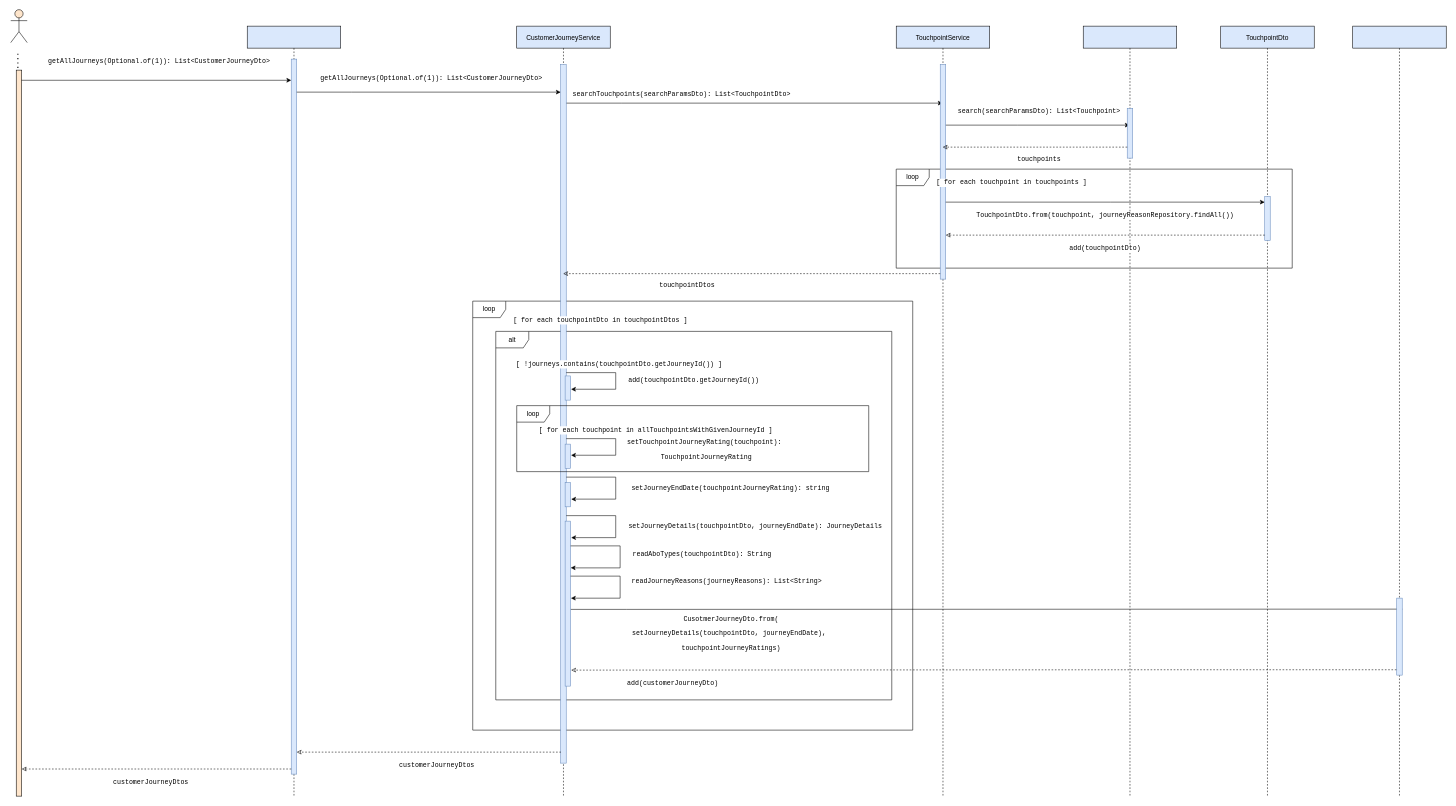
This 1456x806 diagram has some shape labels left out. Here are the shapes that lost their labels. From the top down, the box of each, then its label:
(10, 9, 27, 43): Admin
(247, 26, 341, 796): CustomerJourneyController
(1083, 26, 1177, 796): TouchpointRepositorySearch
(1352, 26, 1446, 796): CustomerJourneyDto
